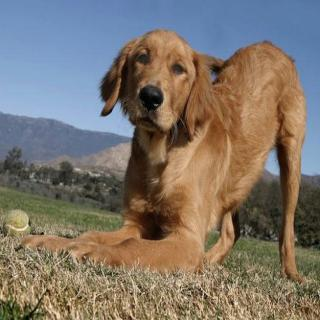dog: (104, 22, 221, 165)
nose: (137, 83, 165, 114)
